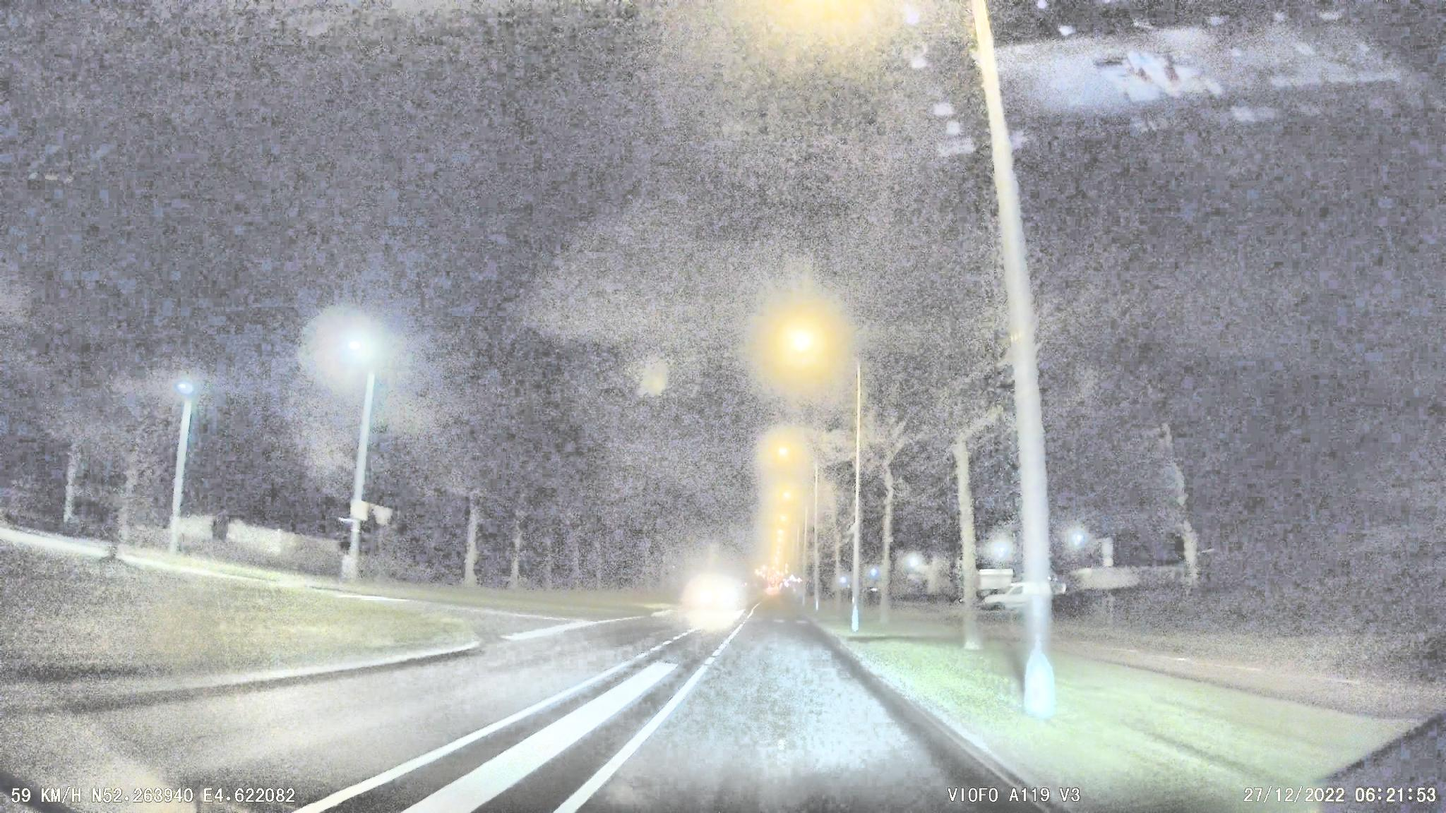Roads: (0, 593, 972, 813)
